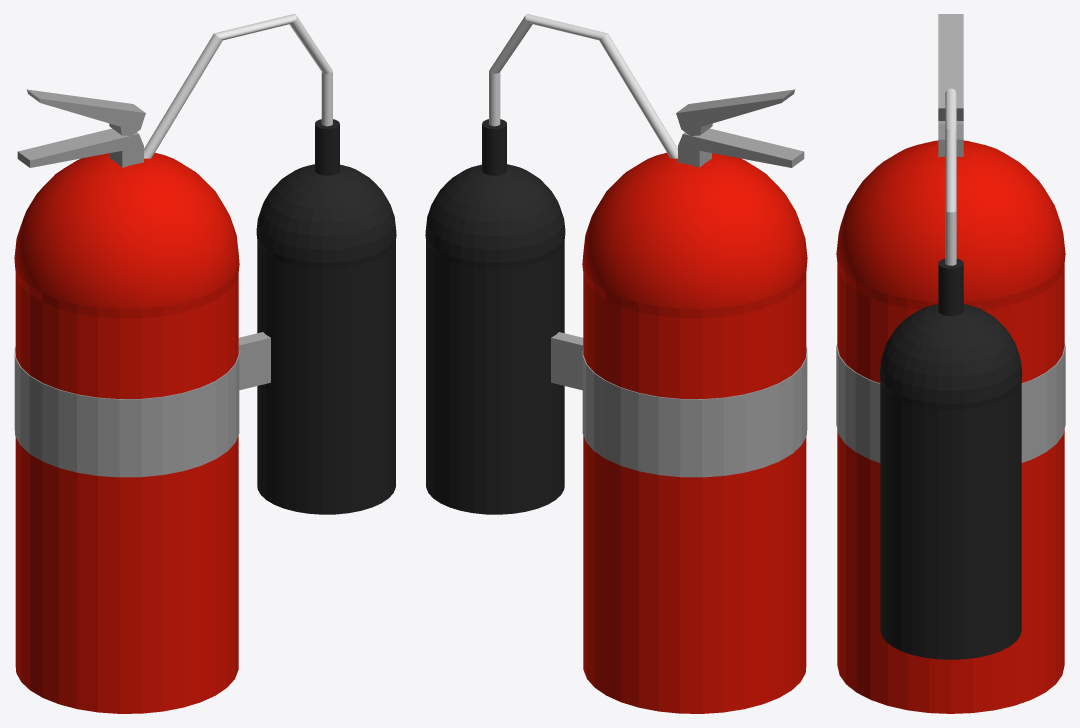
File: fire_extinquisher.fbx
3 renders of one model, left to right at view 1: azimuth 30°, elevation 25°; view 2: azimuth 150°, elevation 25°; view 3: azimuth 270°, elevation 25°, orthographic.
Visible parts, largest first — view 1: Bottle, Spuit, MetalRing, Placeholder tube, HandleBot, HandleTop; view 2: Bottle, Spuit, MetalRing, Placeholder tube, HandleBot, HandleTop; view 3: Bottle, Spuit, MetalRing, HandleTop, Placeholder tube, HandleBot.
Boxes of the visible parts, <box> form: Bottle: <box>14,152,239,713</box>; Spuit: <box>256,119,396,514</box>; MetalRing: <box>14,332,270,477</box>; Placeholder tube: <box>144,14,332,158</box>; HandleBot: <box>17,128,143,167</box>; HandleTop: <box>26,89,145,135</box>; Bottle: <box>582,152,807,713</box>; Spuit: <box>425,119,565,514</box>; MetalRing: <box>551,332,807,477</box>; Placeholder tube: <box>489,14,677,158</box>; HandleBot: <box>678,128,804,167</box>; HandleTop: <box>676,89,795,135</box>; Bottle: <box>836,140,1065,713</box>; Spuit: <box>879,258,1022,659</box>; MetalRing: <box>836,343,1065,462</box>; HandleTop: <box>938,14,963,120</box>; Placeholder tube: <box>945,88,956,265</box>; HandleBot: <box>938,121,963,156</box>.
Size of the model in its own units: 30.63 by 49.24 by 16.47.
